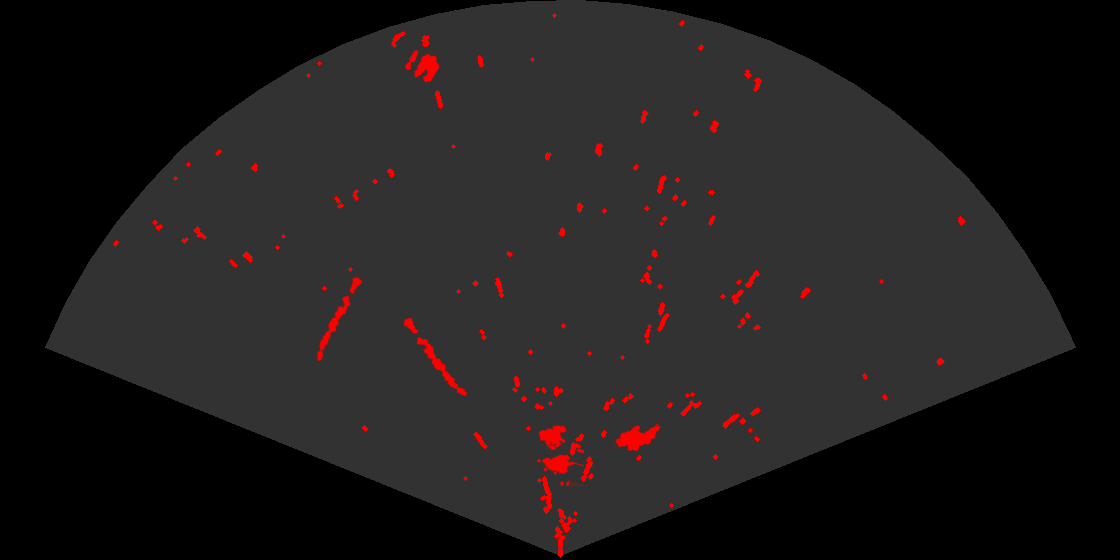AUV: (614, 424, 662, 453)
ball: (403, 48, 441, 84)
cage: (535, 423, 584, 486)
chain: (402, 316, 468, 398), (315, 275, 364, 363)
